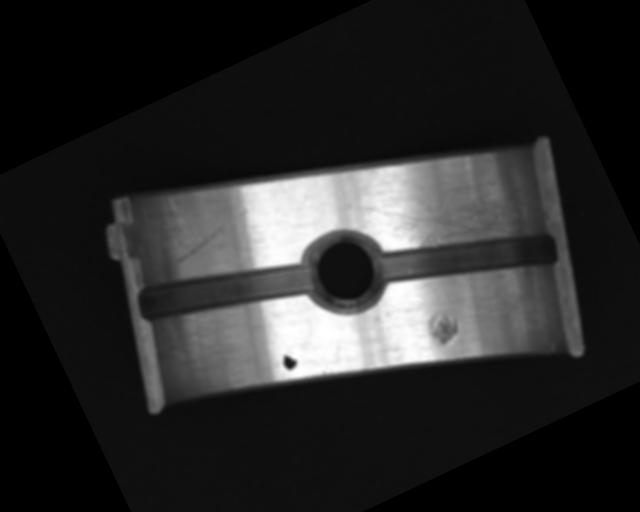blot: (277, 347, 300, 372)
bruise: (421, 305, 465, 349)
gap: (373, 185, 562, 330), (132, 221, 318, 361)
hole: (294, 220, 396, 322)
nick: (163, 206, 256, 268)
scratch: (363, 138, 550, 291)
